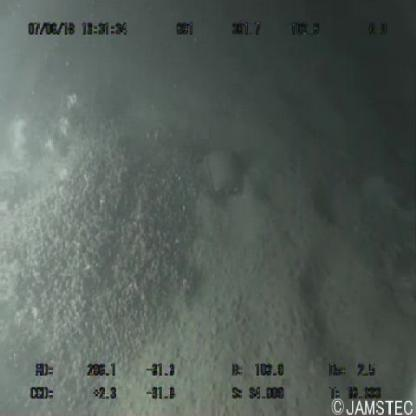Rác: (194, 141, 250, 202)
